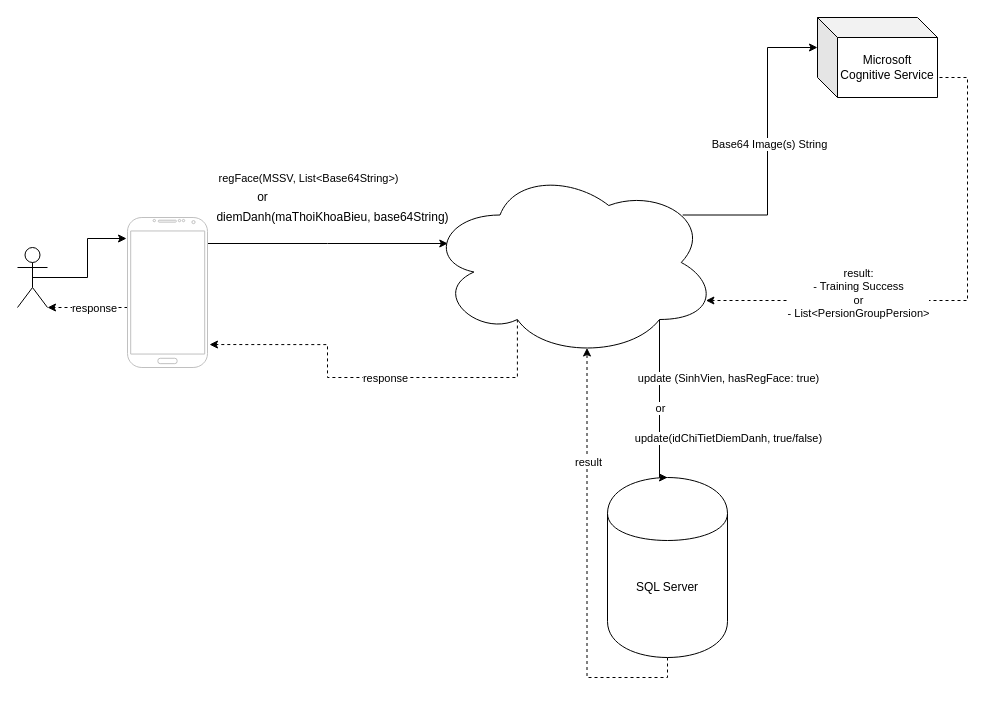
Some shapes in this 993 by 703 pixel diagram are drawn without their labels. Each missing label, with the centre of its shape:
"Actor" goes at [32,277].
"ASP .NET Core Resful API" goes at [572,262].
